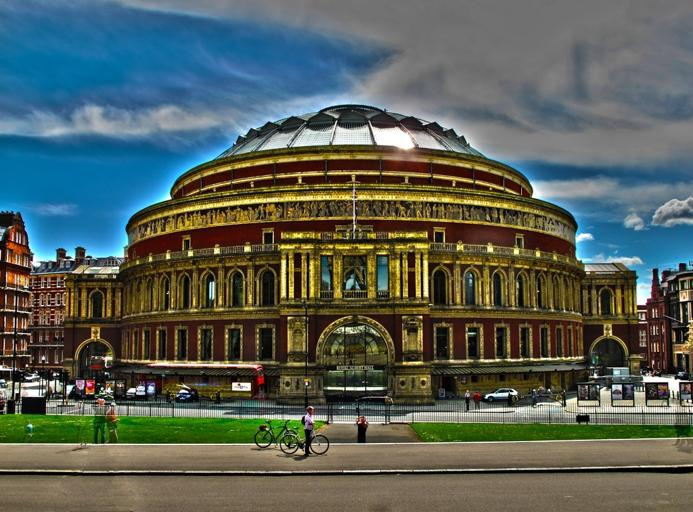non-vehicle: (279, 422, 328, 455), (252, 418, 298, 448)
